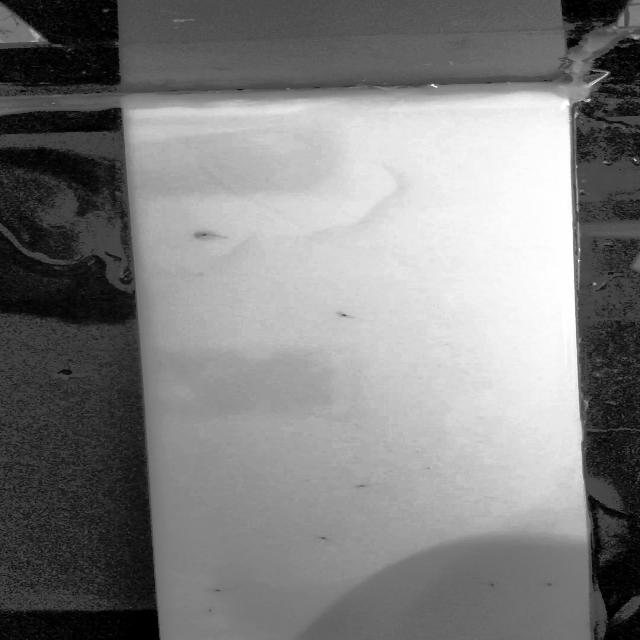shrimp: (206, 586, 238, 595), (195, 228, 222, 238), (540, 580, 562, 589), (334, 310, 356, 318), (315, 533, 330, 544), (483, 580, 500, 589), (354, 482, 370, 490), (204, 606, 219, 614)
